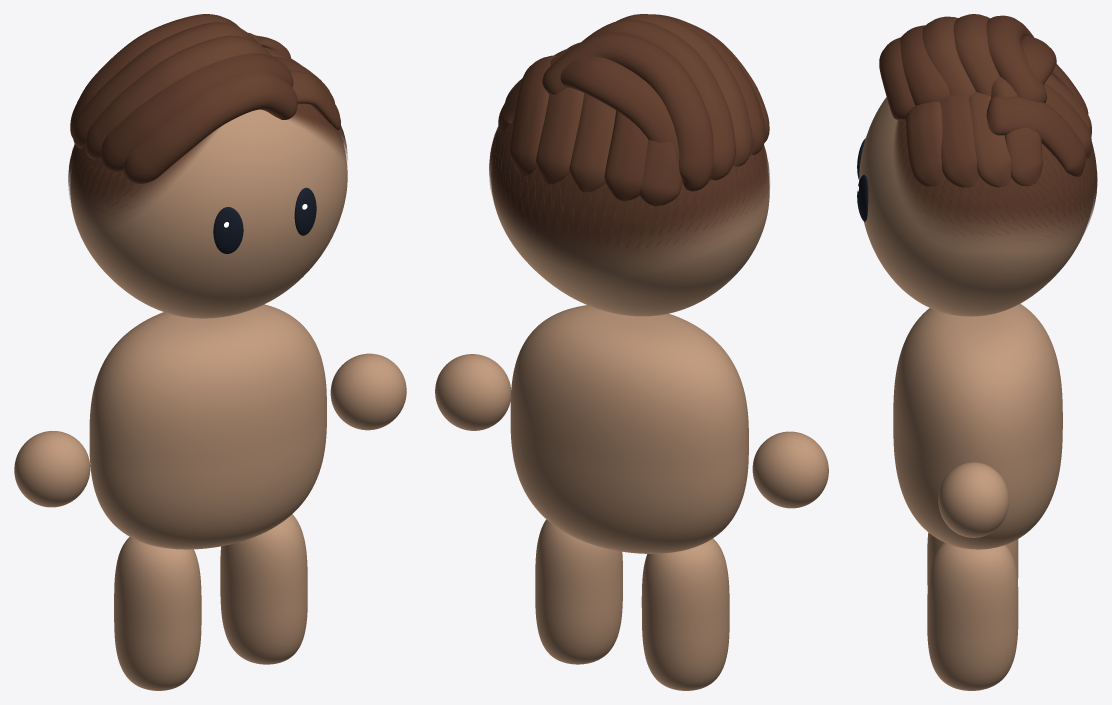
File: Taper-skin2.glb
The picture shows the model from 3 angles, left to right: view 1: azimuth 30°, elevation 25°; view 2: azimuth 150°, elevation 25°; view 3: azimuth 270°, elevation 25°; orthographic projection. The views are drawn at different scales.
Visible parts, largest first — view 1: Skin / compact torso, Skin / soft oval head, Skin / leg -1, Skin / leg 1, Hair / Taper top 0, Hair / Taper short sides, Hair / Taper top 1, Hair / Taper top 2, Skin / hand 1, Skin / hand -1, Hair / Taper top 3, Hair / Taper top 4 (+4 smaller); view 2: Skin / compact torso, Hair / Taper short sides, Skin / soft oval head, Skin / leg -1, Skin / leg 1, Hair / Taper top 4, Hair / Taper rear bridge, Skin / hand -1, Skin / hand 1, Hair / Taper top 3, Hair / Taper fine direction, Hair / Taper top 2 (+6 smaller); view 3: Skin / compact torso, Skin / soft oval head, Hair / Taper short sides, Skin / leg 1, Skin / hand 1, Hair / Taper crown 4, Hair / Taper top 4, Hair / Taper short sweep 1, Hair / Taper short sweep 0, Hair / Taper top 3, Hair / Taper short sweep 2, Hair / Taper top 1 (+10 smaller).
Boxes of the visible parts, x1,y1,x2,y2 form: Skin / compact torso: [89, 304, 326, 549]; Skin / soft oval head: [70, 109, 347, 318]; Skin / leg -1: [114, 537, 201, 690]; Skin / leg 1: [220, 514, 307, 664]; Hair / Taper top 0: [123, 73, 297, 184]; Hair / Taper short sides: [68, 103, 347, 221]; Hair / Taper top 1: [101, 53, 293, 171]; Hair / Taper top 2: [85, 35, 272, 159]; Skin / hand 1: [330, 353, 406, 430]; Skin / hand -1: [14, 431, 90, 507]; Hair / Taper top 3: [73, 22, 259, 148]; Hair / Taper top 4: [70, 14, 239, 138]; Skin / compact torso: [510, 305, 748, 553]; Hair / Taper short sides: [489, 119, 769, 266]; Skin / soft oval head: [491, 170, 769, 316]; Skin / leg -1: [641, 538, 729, 690]; Skin / leg 1: [535, 519, 622, 664]; Hair / Taper top 4: [542, 32, 713, 191]; Hair / Taper rear bridge: [560, 56, 679, 164]; Skin / hand -1: [752, 431, 828, 508]; Skin / hand 1: [435, 354, 511, 430]; Hair / Taper top 3: [582, 19, 735, 180]; Hair / Taper fine direction: [489, 124, 769, 248]; Hair / Taper top 2: [616, 14, 752, 166]; Skin / compact torso: [893, 303, 1062, 549]; Skin / soft oval head: [859, 97, 1091, 316]; Hair / Taper short sides: [894, 120, 1097, 243]; Skin / leg 1: [927, 542, 1018, 690]; Skin / hand 1: [938, 462, 1008, 537]; Hair / Taper crown 4: [986, 96, 1085, 176]; Hair / Taper top 4: [986, 15, 1047, 102]; Hair / Taper short sweep 1: [940, 95, 979, 187]; Hair / Taper short sweep 0: [906, 101, 945, 186]; Hair / Taper top 3: [953, 14, 999, 96]; Hair / Taper short sweep 2: [969, 91, 1011, 187]; Hair / Taper top 1: [900, 25, 949, 105].
Bounding box in the file's own units: 1.49 × 2.4 × 0.8289.
